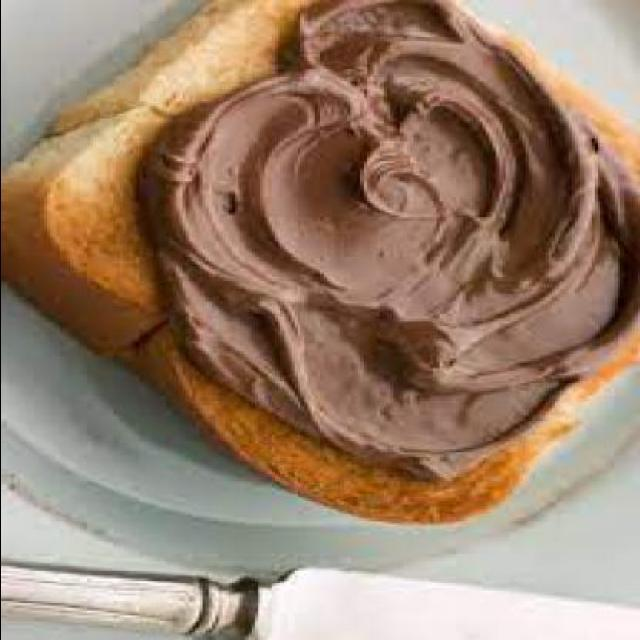Spread: (149, 5, 633, 497)
